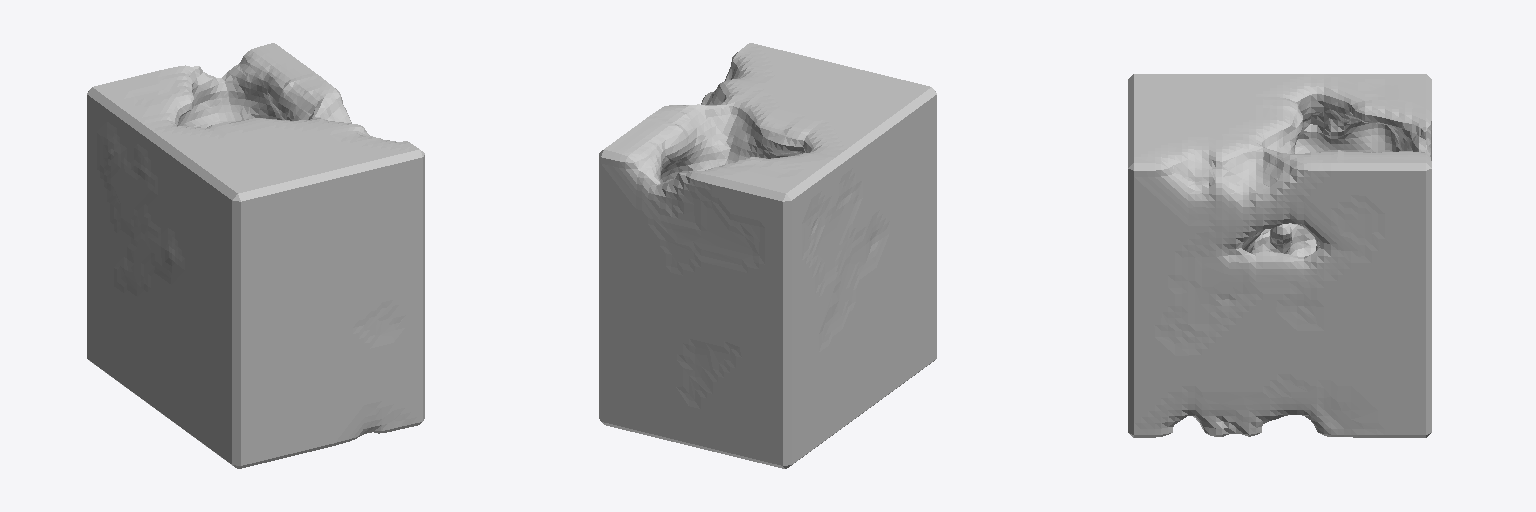
The picture shows the model from 3 angles: view 1: azimuth 30°, elevation 25°; view 2: azimuth 150°, elevation 25°; view 3: azimuth 270°, elevation 25°; orthographic projection.
Parts seen in each view (by area): view 1: Liquid_Domain; view 2: Liquid_Domain; view 3: Liquid_Domain.
Boxes of the visible parts, <box> form: Liquid_Domain: <box>87,43,424,468</box>; Liquid_Domain: <box>599,43,936,468</box>; Liquid_Domain: <box>1128,74,1431,437</box>.
Size of the model in its own units: 79.09 by 108 by 108.